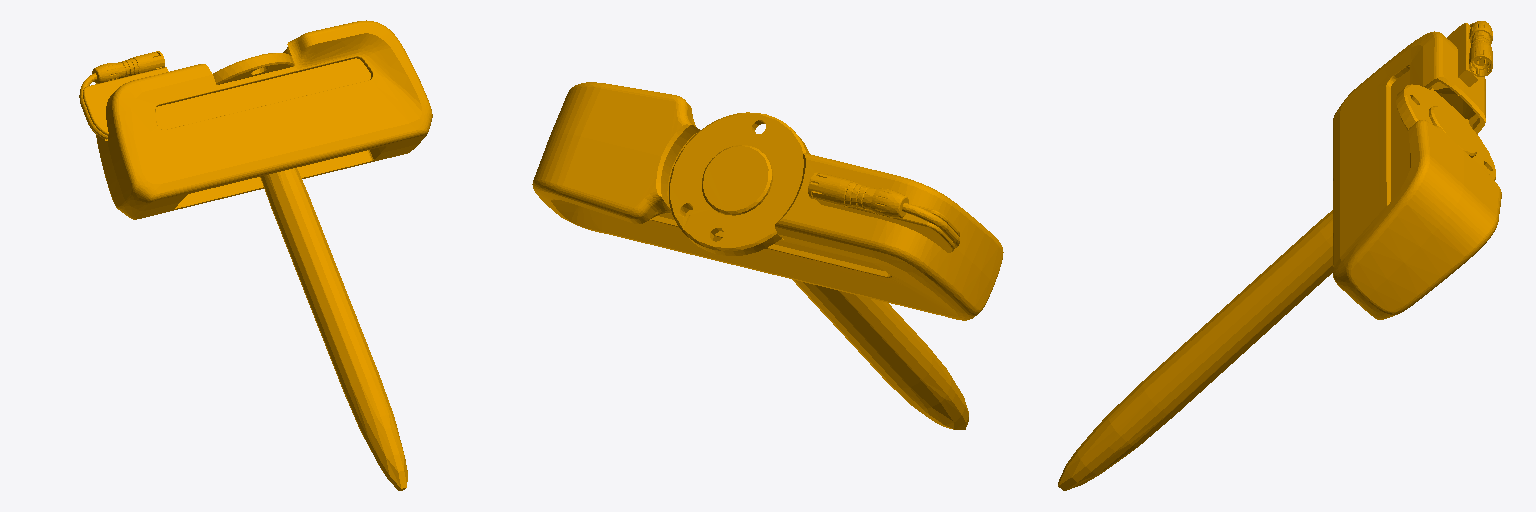
robot.urdf — panda:
<?xml version="1.0" ?>
<robot name="panda" xmlns:xacro="http://www.ros.org/wiki/xacro">
  <link name="panda_link0">
    <visual>
      <geometry>
        <mesh filename="meshes/visual/link0.dae"/>
      </geometry>
    </visual>
    <collision>
      <geometry>
        <mesh filename="meshes/collision/link0.obj"/>
      </geometry>
    </collision>
  </link>
  <link name="panda_link1">
    <visual>
      <geometry>
        <mesh filename="meshes/visual/link1.dae"/>
      </geometry>
    </visual>
    <collision>
      <geometry>
        <mesh filename="meshes/collision/link1.obj"/>
      </geometry>
    </collision>
  </link>
  <joint name="panda_joint1" type="revolute">
    <safety_controller k_position="100.0" k_velocity="40.0" soft_lower_limit="-2.8973" soft_upper_limit="2.8973"/>
    <origin rpy="0 0 0" xyz="0 0 0.333"/>
    <parent link="panda_link0"/>
    <child link="panda_link1"/>
    <axis xyz="0 0 1"/>
    <dynamics damping="10.0"/>
    <limit effort="87" lower="-2.8973" upper="2.8973" velocity="2.1750"/>
  </joint>
  <link name="panda_link2">
    <visual>
      <geometry>
        <mesh filename="meshes/visual/link2.dae"/>
      </geometry>
    </visual>
    <collision>
      <geometry>
        <mesh filename="meshes/collision/link2.obj"/>
      </geometry>
    </collision>
  </link>
  <joint name="panda_joint2" type="revolute">
    <safety_controller k_position="100.0" k_velocity="40.0" soft_lower_limit="-1.7628" soft_upper_limit="1.7628"/>
    <origin rpy="-1.57079632679 0 0" xyz="0 0 0"/>
    <parent link="panda_link1"/>
    <child link="panda_link2"/>
    <axis xyz="0 0 1"/>
    <dynamics damping="10.0"/>
    <limit effort="87" lower="-1.7628" upper="1.7628" velocity="2.1750"/>
  </joint>
  <link name="panda_link3">
    <visual>
      <geometry>
        <mesh filename="meshes/visual/link3.dae"/>
      </geometry>
    </visual>
    <collision>
      <geometry>
        <mesh filename="meshes/collision/link3.obj"/>
      </geometry>
    </collision>
  </link>
  <joint name="panda_joint3" type="revolute">
    <safety_controller k_position="100.0" k_velocity="40.0" soft_lower_limit="-2.8973" soft_upper_limit="2.8973"/>
    <origin rpy="1.57079632679 0 0" xyz="0 -0.316 0"/>
    <parent link="panda_link2"/>
    <child link="panda_link3"/>
    <axis xyz="0 0 1"/>
    <dynamics damping="10.0"/>
    <limit effort="87" lower="-2.8973" upper="2.8973" velocity="2.1750"/>
  </joint>
  <link name="panda_link4">
    <visual>
      <geometry>
        <mesh filename="meshes/visual/link4.dae"/>
      </geometry>
    </visual>
    <collision>
      <geometry>
        <mesh filename="meshes/collision/link4.obj"/>
      </geometry>
    </collision>
  </link>
  <joint name="panda_joint4" type="revolute">
    <safety_controller k_position="100.0" k_velocity="40.0" soft_lower_limit="-3.0718" soft_upper_limit="-0.0698"/>
    <origin rpy="1.57079632679 0 0" xyz="0.0825 0 0"/>
    <parent link="panda_link3"/>
    <child link="panda_link4"/>
    <axis xyz="0 0 1"/>    
    <dynamics damping="10.0"/>
    <limit effort="87" lower="-3.0718" upper="-0.0698" velocity="2.1750"/>
    <!-- something is weird with this joint limit config
    <dynamics damping="10.0"/>
    <limit effort="87" lower="-3.0" upper="0.087" velocity="2.1750"/>  -->
  </joint>
  <link name="panda_link5">
    <visual>
      <geometry>
        <mesh filename="meshes/visual/link5.dae"/>
      </geometry>
    </visual>
    <collision>
      <geometry>
        <mesh filename="meshes/collision/link5.obj"/>
      </geometry>
    </collision>
  </link>
  <joint name="panda_joint5" type="revolute">
    <safety_controller k_position="100.0" k_velocity="40.0" soft_lower_limit="-2.8973" soft_upper_limit="2.8973"/>
    <origin rpy="-1.57079632679 0 0" xyz="-0.0825 0.384 0"/>
    <parent link="panda_link4"/>
    <child link="panda_link5"/>
    <axis xyz="0 0 1"/>
    <dynamics damping="10.0"/>
    <limit effort="12" lower="-2.8973" upper="2.8973" velocity="2.6100"/>
  </joint>
  <link name="panda_link6">
    <visual>
      <geometry>
        <mesh filename="meshes/visual/link6.dae"/>
      </geometry>
    </visual>
    <collision>
      <geometry>
        <mesh filename="meshes/collision/link6.obj"/>
      </geometry>
    </collision>
  </link>
  <joint name="panda_joint6" type="revolute">
    <safety_controller k_position="100.0" k_velocity="40.0" soft_lower_limit="-0.0175" soft_upper_limit="3.7525"/>
    <origin rpy="1.57079632679 0 0" xyz="0 0 0"/>
    <parent link="panda_link5"/>
    <child link="panda_link6"/>
    <axis xyz="0 0 1"/>
    <dynamics damping="10.0"/>
    <limit effort="12" lower="-0.0175" upper="3.7525" velocity="2.6100"/>
    <!-- <dynamics damping="10.0"/>
    <limit effort="12" lower="-0.0873" upper="3.0" velocity="2.6100"/> -->
  </joint>
  <link name="panda_link7">
    <visual>
      <geometry>
        <mesh filename="meshes/visual/link7.dae"/>
      </geometry>
    </visual>
    <collision>
      <geometry>
        <mesh filename="meshes/collision/link7.obj"/>
      </geometry>
    </collision>
  </link>
  <joint name="panda_joint7" type="revolute">
    <safety_controller k_position="100.0" k_velocity="40.0" soft_lower_limit="-2.8973" soft_upper_limit="2.8973"/>
    <origin rpy="1.57079632679 0 0" xyz="0.088 0 0"/>
    <parent link="panda_link6"/>
    <child link="panda_link7"/>
    <axis xyz="0 0 1"/>
    <dynamics damping="10.0"/>
    <limit effort="12" lower="-2.8973" upper="2.8973" velocity="2.6100"/>
  </joint>
  <!--
  <link name="panda_link8"/>
  <joint name="panda_joint8" type="fixed">
    <origin rpy="0 0 0" xyz="0 0 0.107"/>
    <parent link="panda_link7"/>
    <child link="panda_link8"/>
    <axis xyz="0 0 0"/>
  </joint>
  Removing this joint seems to help with some stability things
  -->
  <joint name="panda_hand_joint" type="fixed">
    <!--
    <parent link="panda_link8"/>
    -->
    <parent link="panda_link7"/>
    <child link="panda_hand"/>
    <origin rpy="0 0 -0.785398163397" xyz="0 0 0.107"/>
    <!--
    <origin rpy="0 0 -0.785398163397" xyz="0 0 0"/>
    -->
  </joint>
  <link name="panda_hand">
    <visual>
      <geometry>
        <mesh filename="meshes/visual/stir_hand.obj"/>
      </geometry>
    </visual>
    <collision>
      <geometry>
        <mesh filename="meshes/collision/stir.obj"/>
      </geometry>
    </collision>
  <inertial>
    <mass value="0.5"/> 
    <inertia ixx="0.0001" ixy="0.0" ixz="0.0" iyy="0.0001" iyz="0.0" izz="0.0001"/>
  </inertial>
  </link>
  <link name="panda_leftfinger">
    <visual>
      <geometry>
        <mesh filename="meshes/visual/finger.dae"/>
      </geometry>
    </visual>
    <collision>
      <geometry>
        <mesh filename="meshes/collision/finger.obj"/>
      </geometry>
    </collision>
  </link>
  <link name="panda_rightfinger">
    <visual>
      <origin rpy="0 0 3.14159265359" xyz="0 0 0"/>
      <geometry>
        <mesh filename="meshes/visual/finger.dae"/>
      </geometry>
    </visual>
    <collision>
      <origin rpy="0 0 3.14159265359" xyz="0 0 0"/>
      <geometry>
        <mesh filename="meshes/collision/finger.obj"/>
      </geometry>
    </collision>
  </link>
  <joint name="panda_finger_joint1" type="prismatic">
    <parent link="panda_hand"/>
    <child link="panda_leftfinger"/>
    <origin rpy="0 0 0" xyz="0 0 0.0584"/>
    <axis xyz="0 1 0"/>
    <dynamics damping="10.0"/>
    <limit effort="20" lower="0.0" upper="0.04" velocity="0.2"/>
  </joint>
  <joint name="panda_finger_joint2" type="prismatic">
    <parent link="panda_hand"/>
    <child link="panda_rightfinger"/>
    <origin rpy="0 0 0" xyz="0 0 0.0584"/>
    <axis xyz="0 -1 0"/>
    <dynamics damping="10.0"/>
    <limit effort="20" lower="0.0" upper="0.04" velocity="0.2"/>
    <mimic joint="panda_finger_joint1"/>
  </joint>
</robot>

--- Facts derived from the render (not from the file) ---
3 views of the same robot in one strip: view 1: azimuth 30°, elevation 25°; view 2: azimuth 150°, elevation 25°; view 3: azimuth 270°, elevation 25° (orthographic).
Robot: panda — 11 links, 10 joints (7 revolute, 2 prismatic, 1 fixed); root link panda_link0; default pose: joints at zero except 1 at the middle of their limits (panda_joint4 = -1.57).
Visible links, largest first — view 1: panda_hand; view 2: panda_hand; view 3: panda_hand.
Link boxes in pixels (box(x1,y1,x2,y2)): panda_hand: box(79, 20, 432, 490); panda_hand: box(532, 82, 1003, 429); panda_hand: box(1058, 21, 1501, 490).
Size in the robot's own frame: 0.2045 by 0.2144 by 0.2144 metres.
Meshes: 10 distinct files referenced, 1 mesh visuals loaded (1 OBJ); not drawn: 10 (reference not matched to a file when rendering).